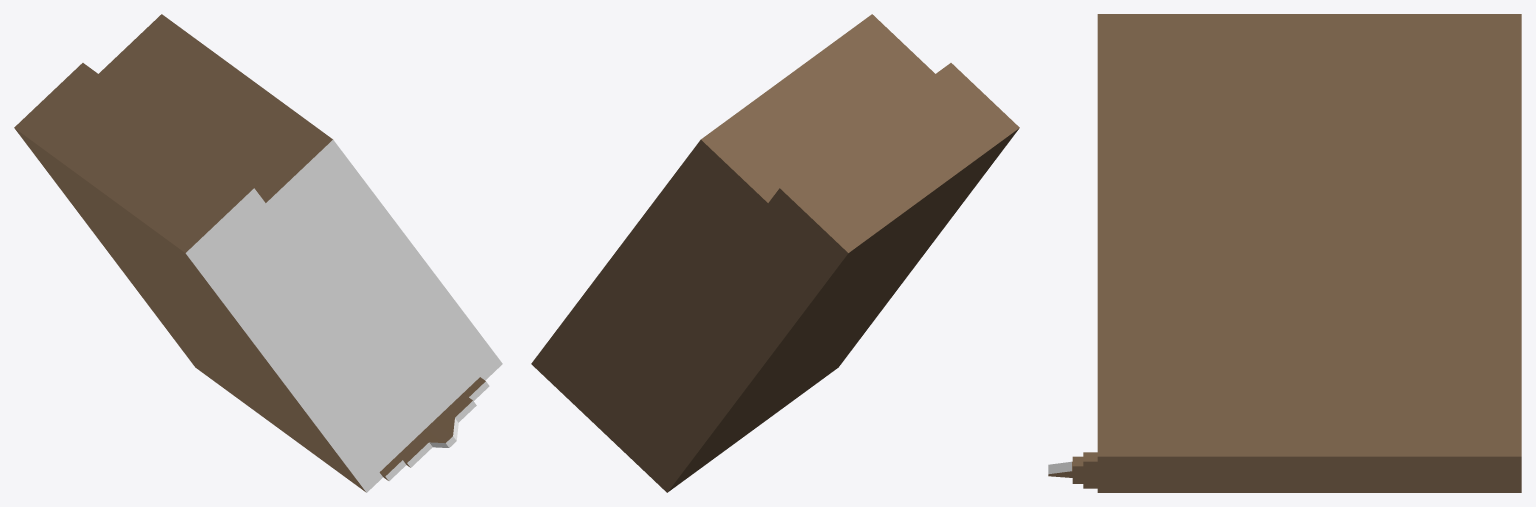
3 views of the same model, side by side, from view 1: azimuth 30°, elevation 25°; view 2: azimuth 150°, elevation 25°; view 3: azimuth 270°, elevation 25° (orthographic). The views are drawn at different scales.
Visible parts, largest first — view 1: City_PC-08742; view 2: City_PC-08742; view 3: City_PC-08742.
Boxes of the visible parts, x1,y1,x2,y2 form: City_PC-08742: [14, 14, 502, 492]; City_PC-08742: [531, 14, 1019, 492]; City_PC-08742: [1048, 14, 1521, 492].
Size of the model in its own units: 1511 by 1645 by 1578.
